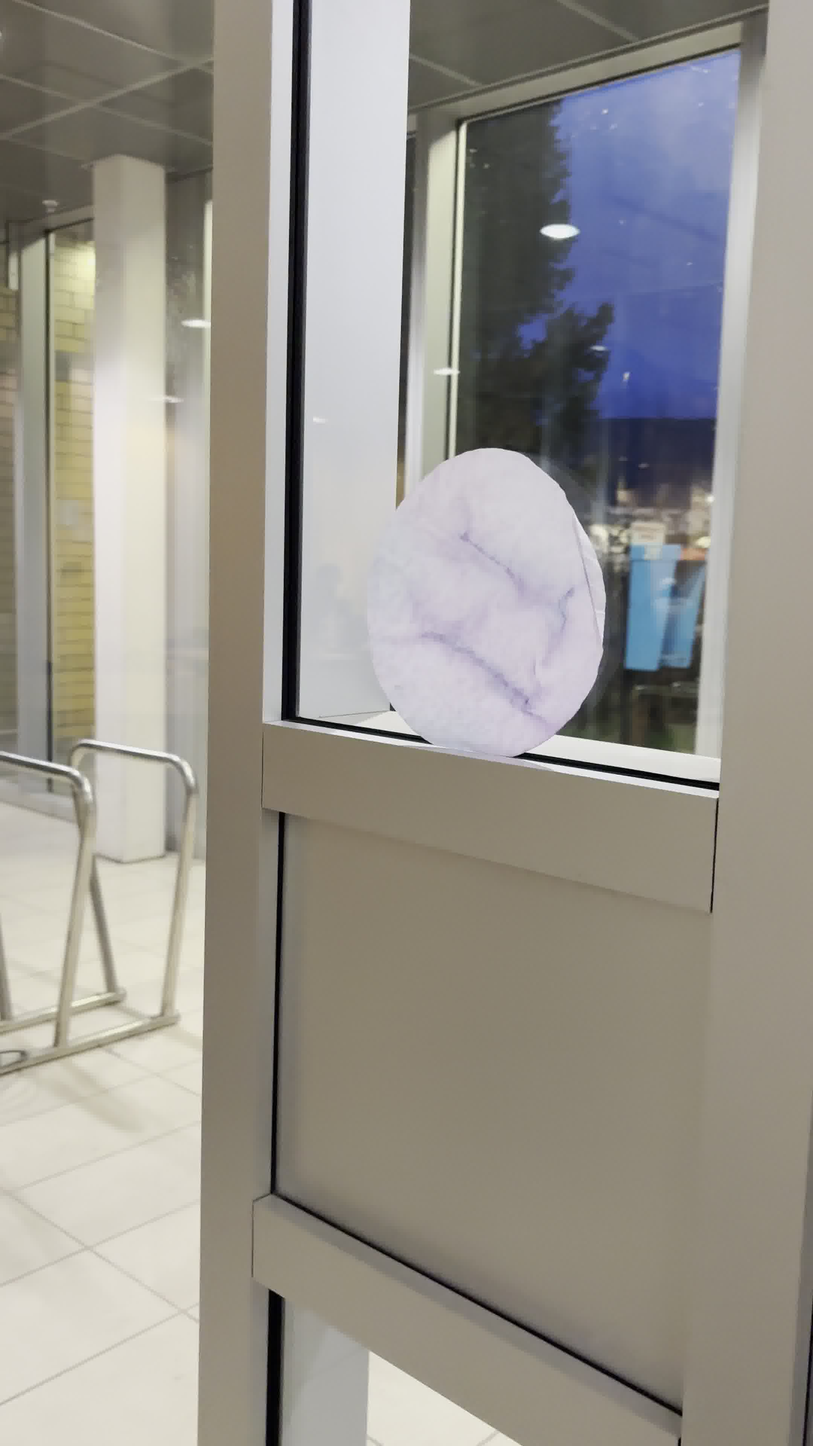Target: (358, 444, 606, 765)
